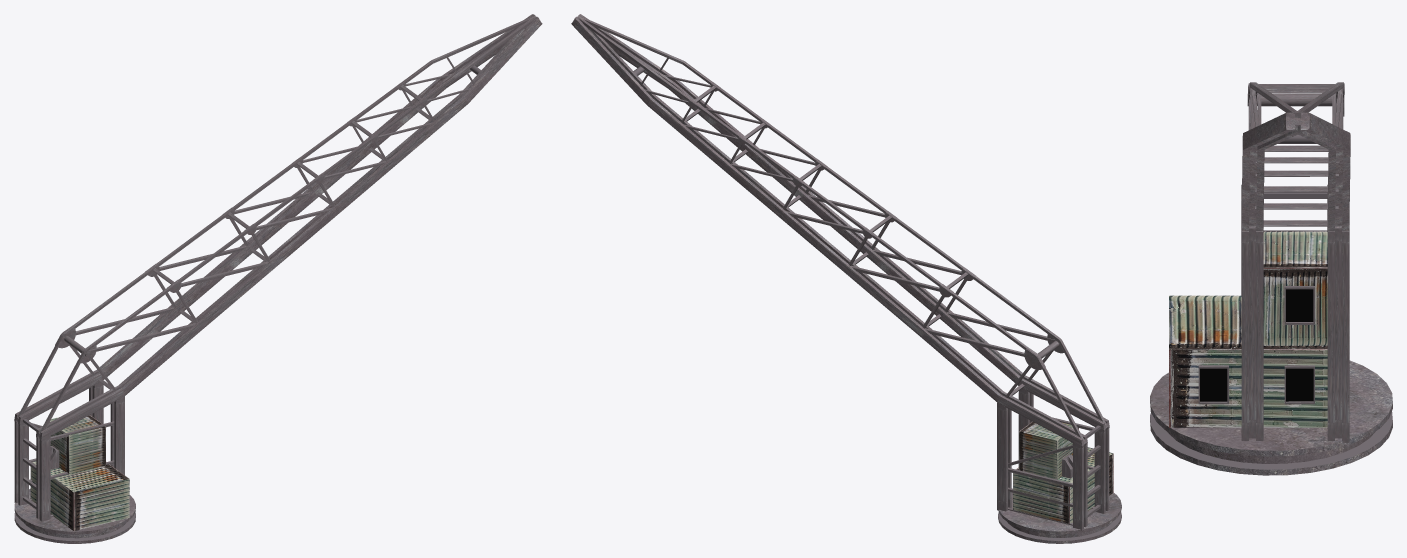
The model's file is UpperCrane.glb.
3 renders of one model, left to right at view 1: azimuth 30°, elevation 25°; view 2: azimuth 150°, elevation 25°; view 3: azimuth 270°, elevation 25°, orthographic. The views are drawn at different scales.
Parts seen in each view (by area): view 1: UpperCrane; view 2: UpperCrane; view 3: UpperCrane.
Boxes of the visible parts, x1,y1,x2,y2 form: UpperCrane: [14, 14, 542, 543]; UpperCrane: [571, 14, 1121, 543]; UpperCrane: [1150, 82, 1392, 475].
Bounding box in the file's own units: 42.03 × 29.41 × 8.44.
Materials: 3 (2 with a texture image).
